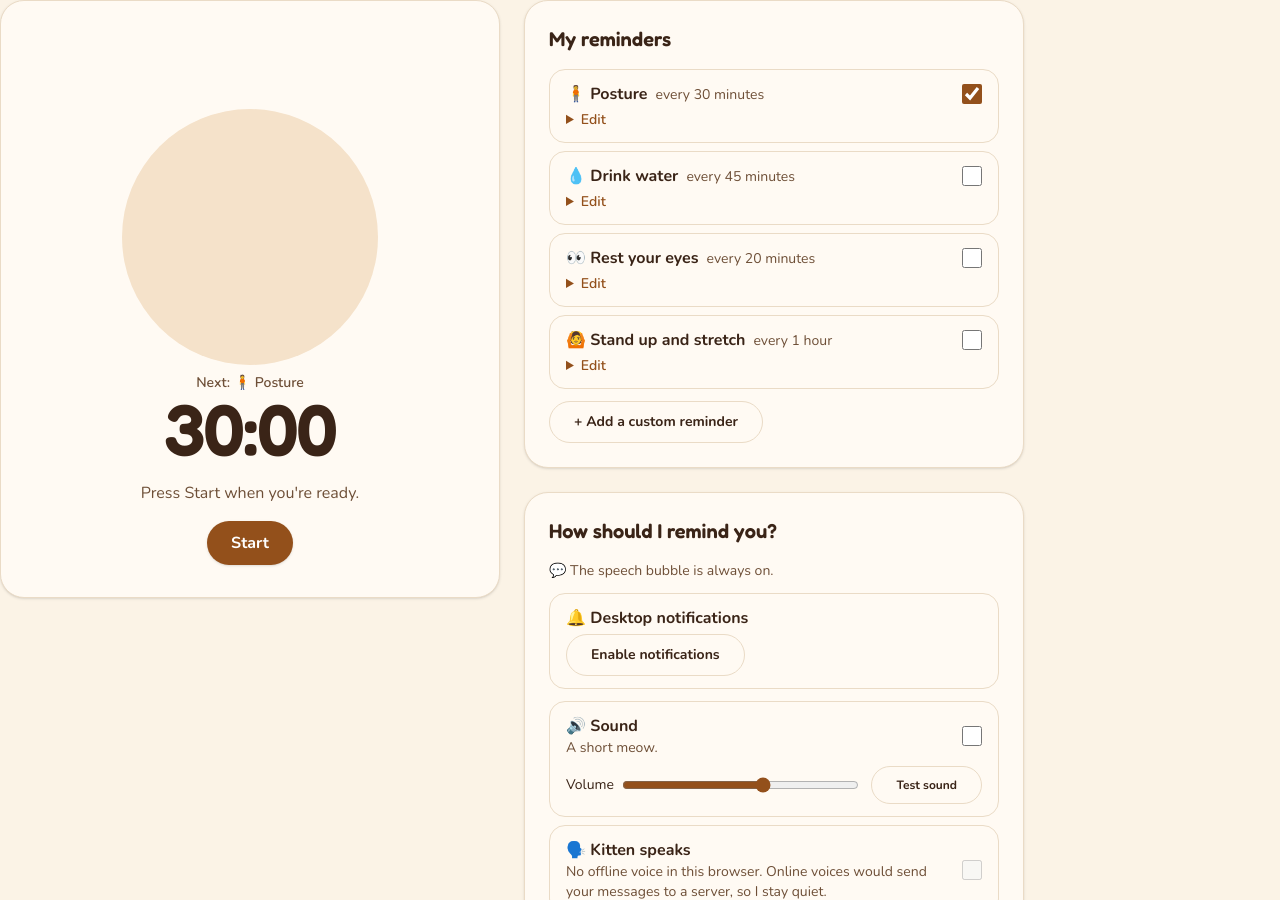
Test: notifications › asks for permission only when the user clicks the button
This screenshot has width=1280, height=900.
Step 1. Click the button "Enable notifications" → point(655, 655), box [566, 634, 745, 676]
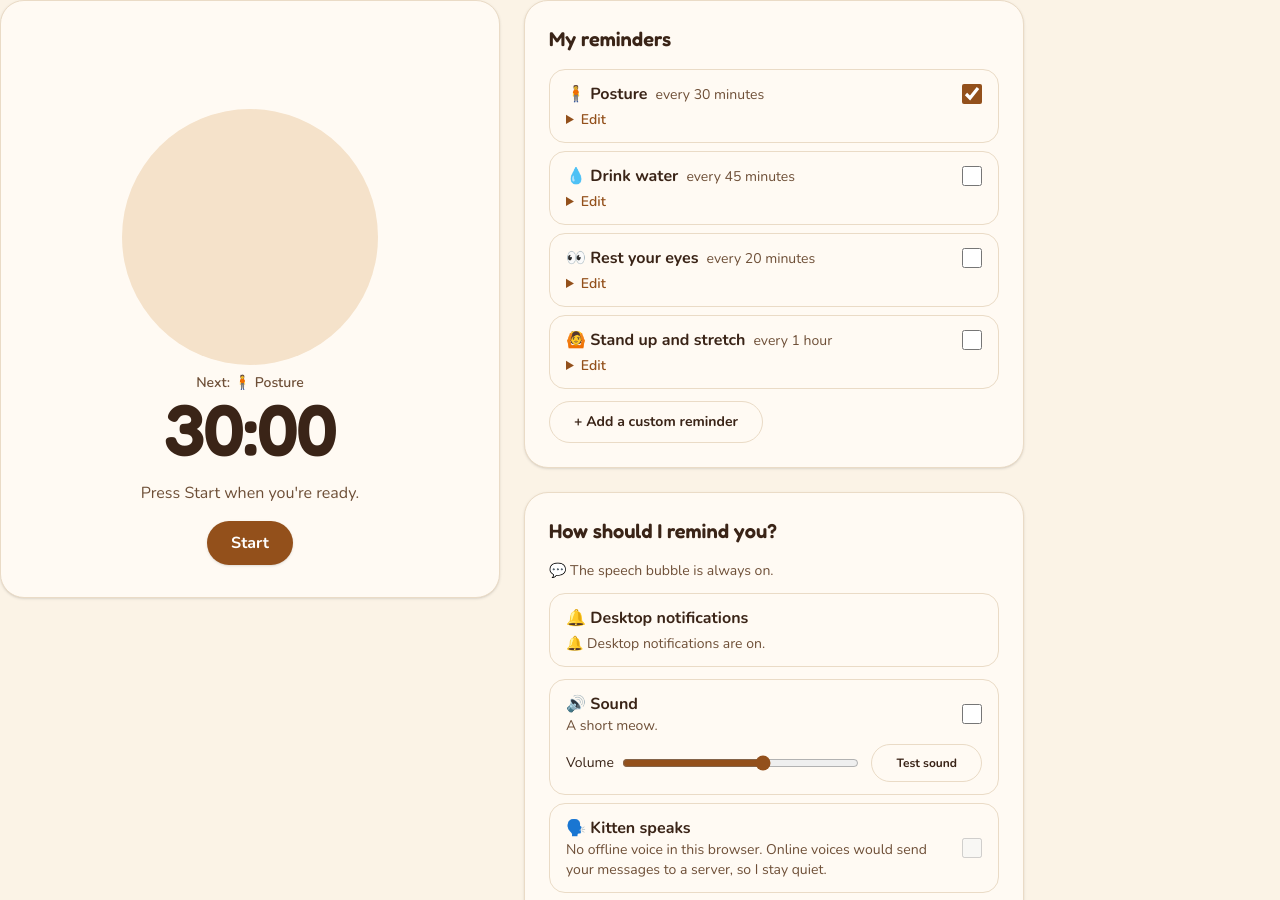
Check: the text "Desktop notifications are on." is shown, box [587, 634, 765, 653]
